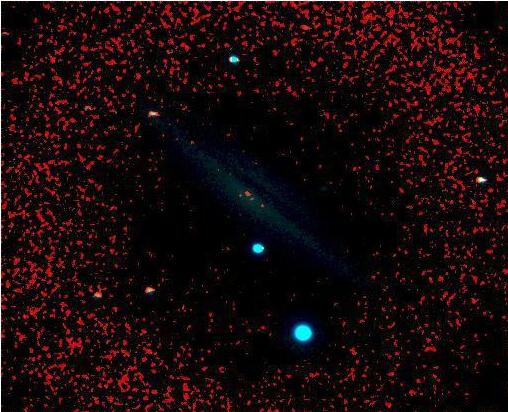star: (214, 152, 244, 182)
